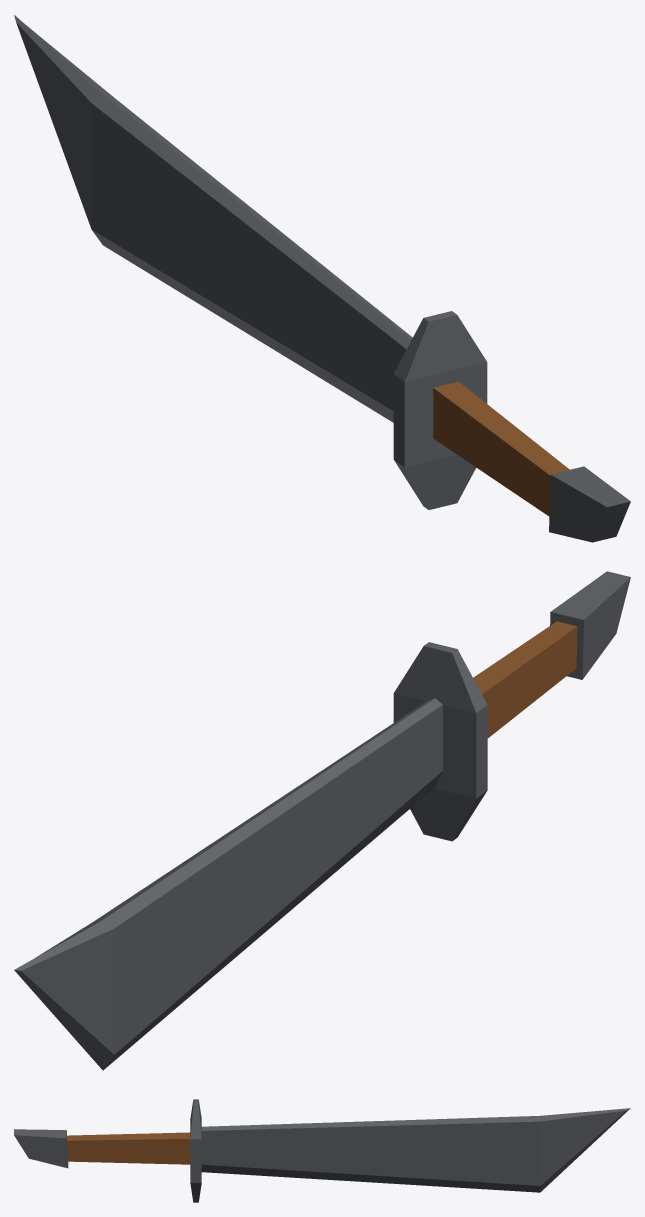
File: Sword.fbx
3 views of the same model, one above another, from view 1: azimuth 30°, elevation 25°; view 2: azimuth 150°, elevation 25°; view 3: azimuth 270°, elevation 25° (orthographic). The views are drawn at different scales.
Parts seen in each view (by area): view 1: Sword_Global_Metal_0, Sword_Global_Wood_0; view 2: Sword_Global_Metal_0, Sword_Global_Wood_0; view 3: Sword_Global_Metal_0, Sword_Global_Wood_0.
Part boxes in pixels (x1,y1,x2,y2): Sword_Global_Metal_0: [14, 15, 630, 542]; Sword_Global_Wood_0: [433, 381, 569, 516]; Sword_Global_Metal_0: [14, 571, 630, 1070]; Sword_Global_Wood_0: [473, 621, 577, 738]; Sword_Global_Metal_0: [14, 1099, 630, 1202]; Sword_Global_Wood_0: [67, 1132, 190, 1164].
Size of the model in its own units: 17.83 by 38.94 by 227.
